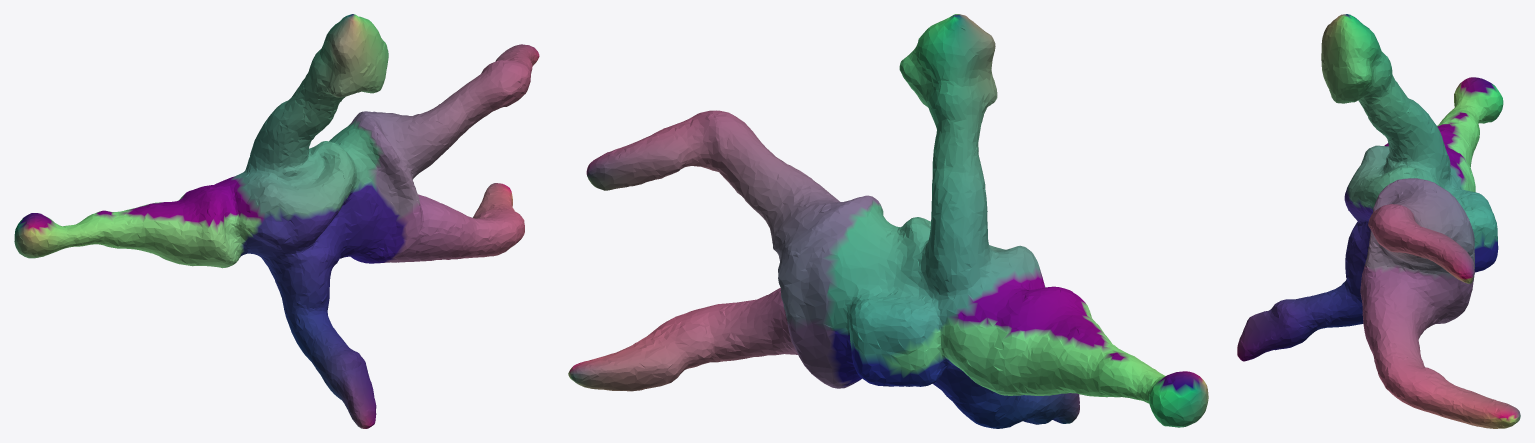
The model's file is santa-18.off.obj.
The picture shows the model from 3 angles, left to right: view 1: azimuth 30°, elevation 25°; view 2: azimuth 150°, elevation 25°; view 3: azimuth 270°, elevation 25°; orthographic projection. The views are drawn at different scales.
Size of the model in its own units: 1.61 by 1.09 by 0.7748.
